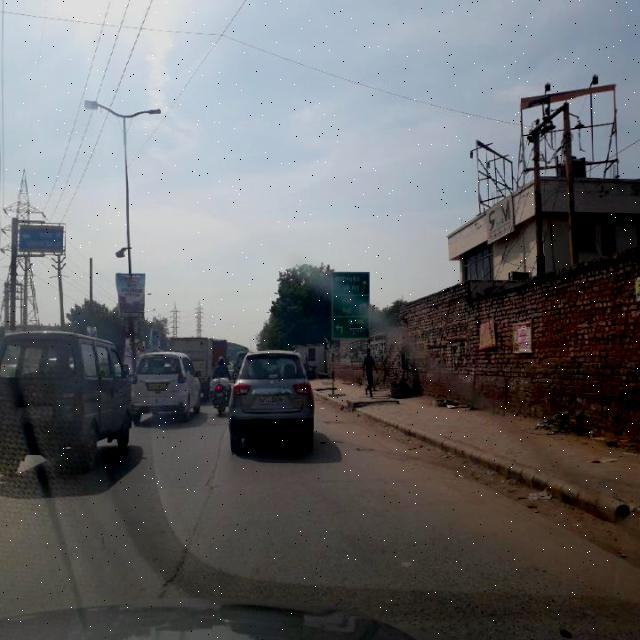D01: (161, 452, 220, 594)
